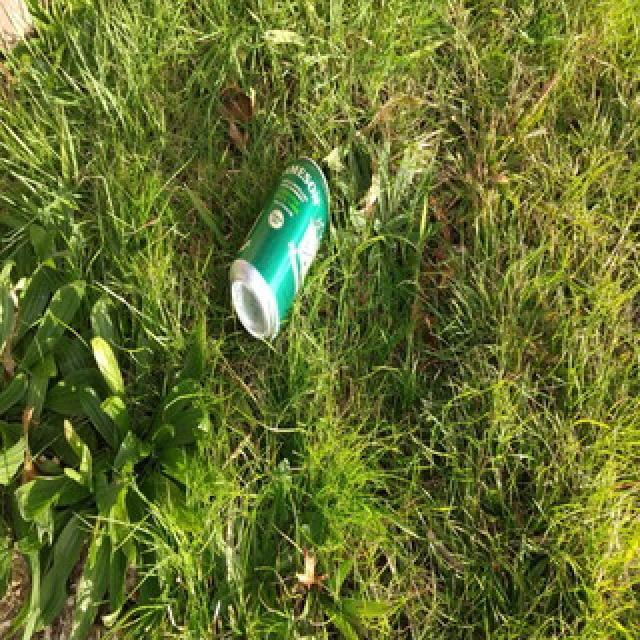can: (230, 156, 332, 344)
